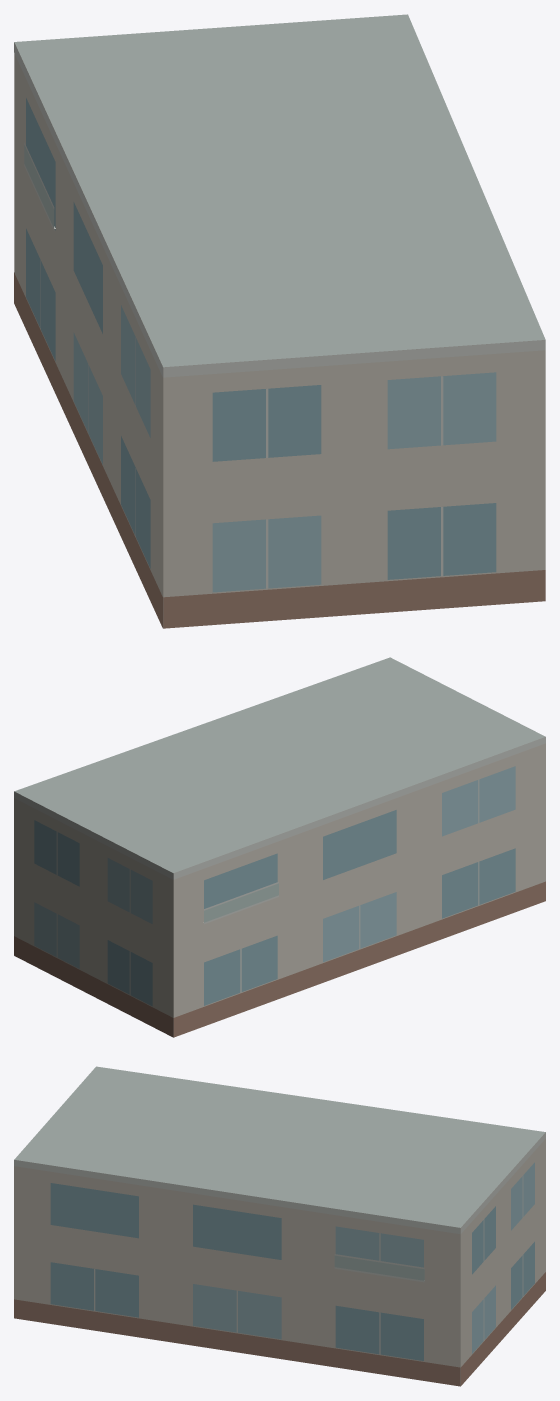
File: survey-upis-32868964.glb
3 views of the same model, one above another, from view 1: azimuth 30°, elevation 25°; view 2: azimuth 150°, elevation 25°; view 3: azimuth 270°, elevation 25° (orthographic). The views are drawn at different scales.
Visible parts, largest first — view 1: survey-upis-32868964.tmp; view 2: survey-upis-32868964.tmp; view 3: survey-upis-32868964.tmp.
Boxes of the visible parts, x1=… form: survey-upis-32868964.tmp: x1=14, y1=14, x2=545, y2=628; survey-upis-32868964.tmp: x1=14, y1=657, x2=545, y2=1037; survey-upis-32868964.tmp: x1=14, y1=1066, x2=545, y2=1386.
Size of the model in its own units: 13.33 by 6.1 by 18.55.
